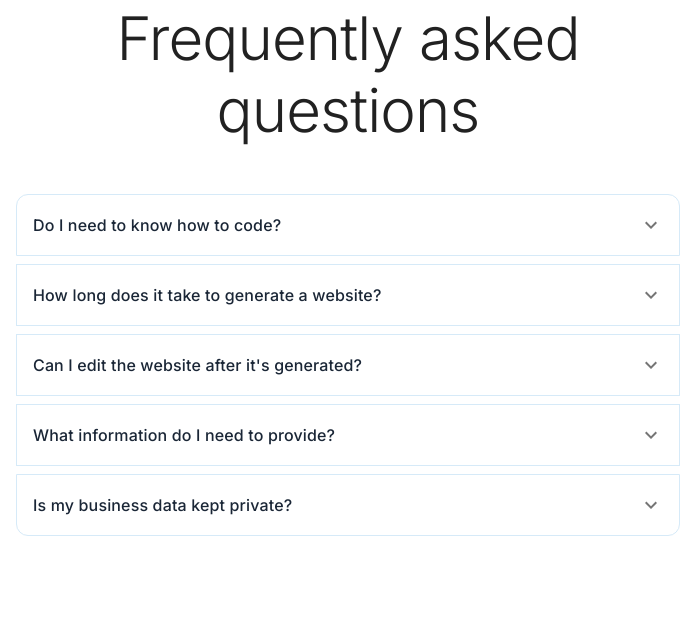
Scenario: FaqSection › expands an accordion item when clicked
The width and height of the screenshot is (697, 626).
Click the button "Do I need to know how to code?".
click(157, 225)  # box [17,195,679,255]
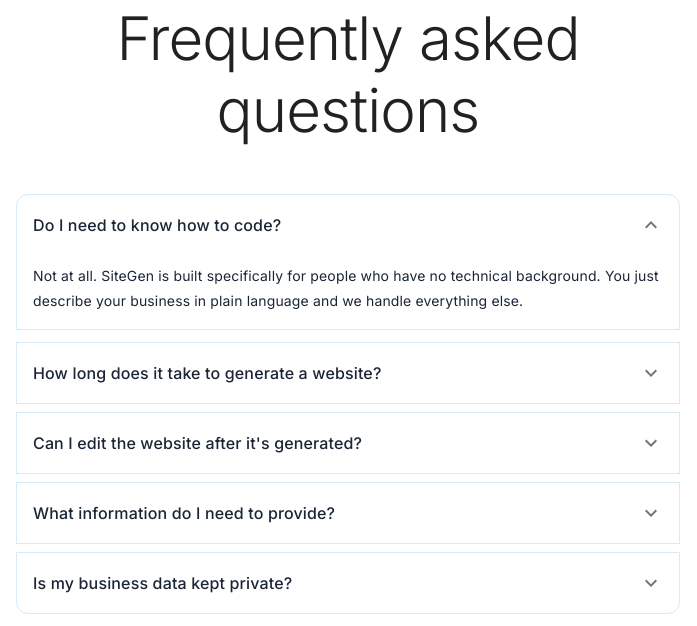
Expected: the text "SiteGen is built specifically" is shown, [33,267,659,309]
